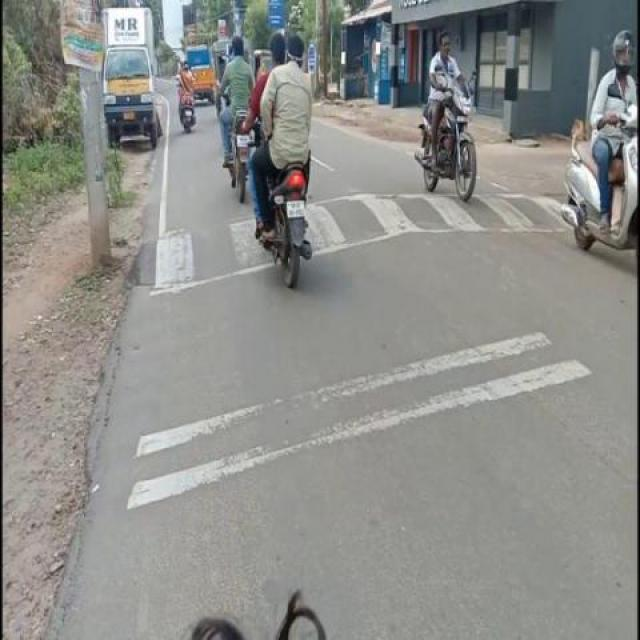Speed Bump: (312, 194, 564, 253), (130, 214, 256, 288)
